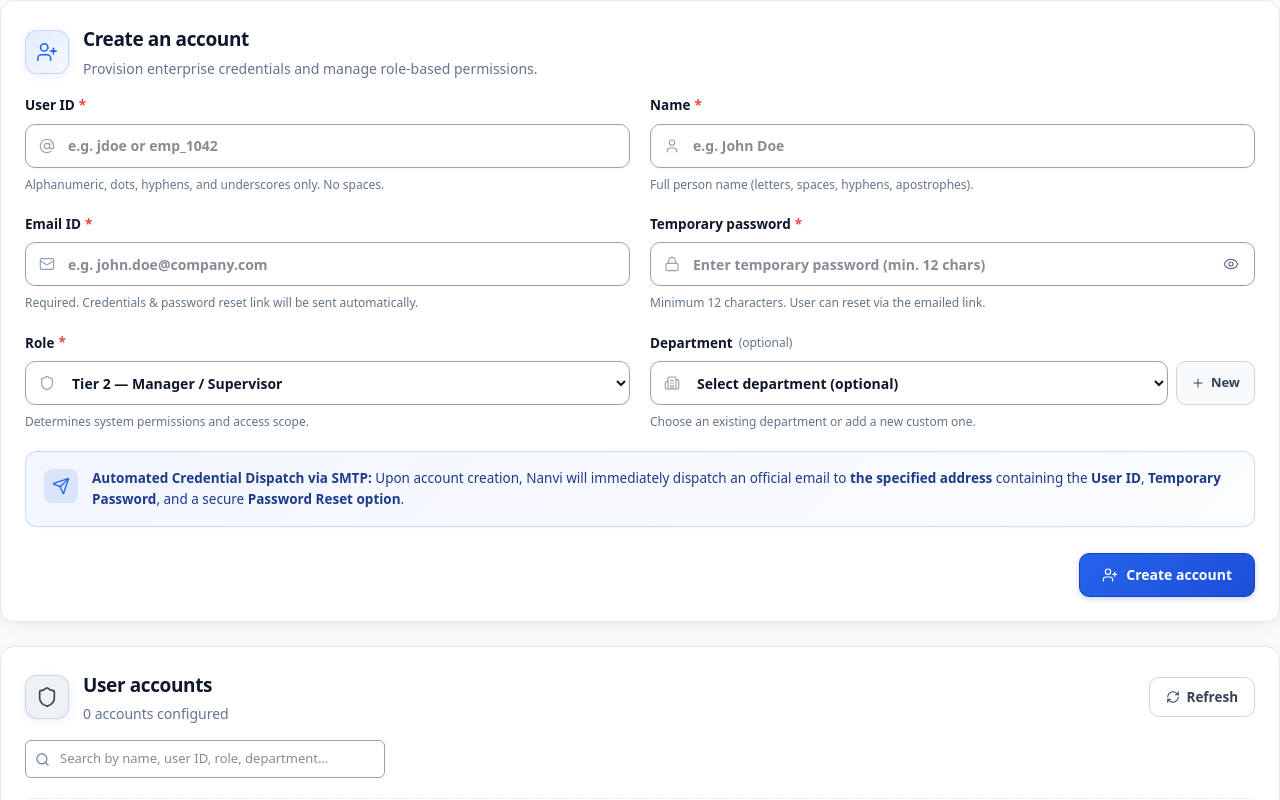
Test: prevents spaces and invalid characters in User ID and Name fields
Note: Attempt typing space and invalid characters in User ID
Type "john doe!#$" into the field with placeholder "e.g. jdoe or emp_1042" at coordinates (328, 146), box top-left (25, 124), bottom-right (630, 168)
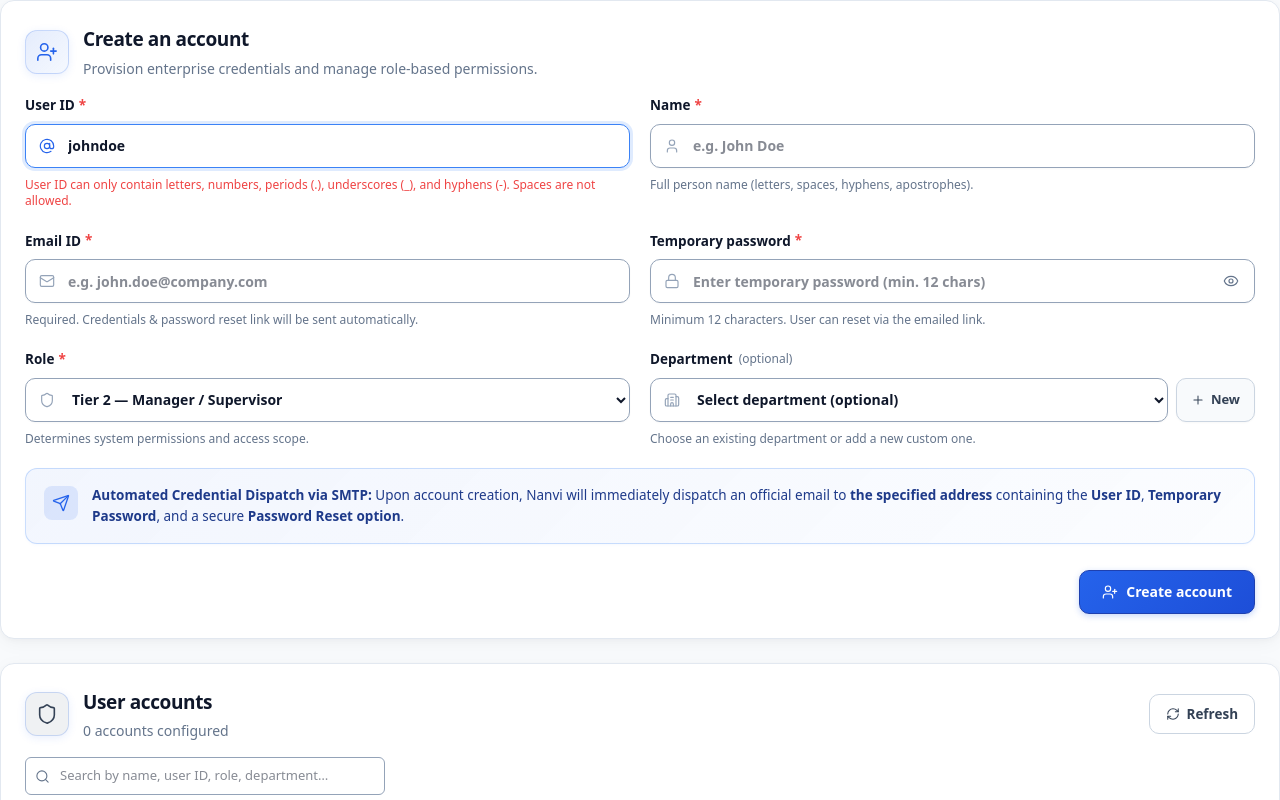
Now the field with placeholder "e.g. jdoe or emp_1042" holds "johndoe", box top-left (25, 124), bottom-right (630, 168)
Note: Attempt typing numbers or symbols in Name
Type "John 123 Doe$$" into the field with placeholder "e.g. John Doe" at coordinates (952, 146), box top-left (650, 124), bottom-right (1255, 168)
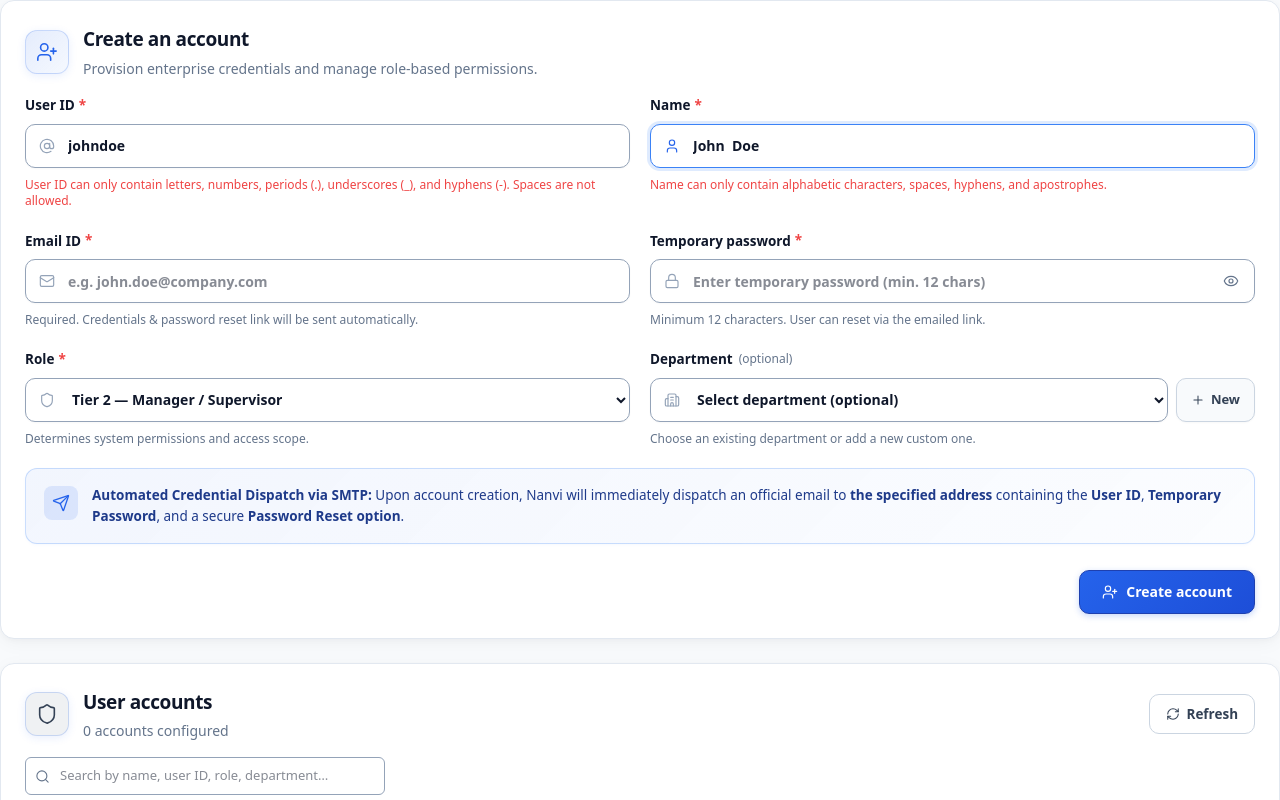
Now the field with placeholder "e.g. John Doe" holds "John  Doe", box top-left (650, 124), bottom-right (1255, 168)
